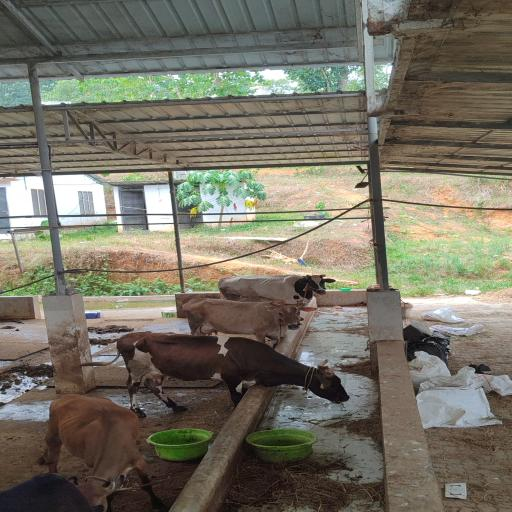cow-feeding: (117, 332, 349, 406)
cow-standing: (39, 395, 168, 511), (183, 299, 303, 347), (218, 275, 335, 305)
